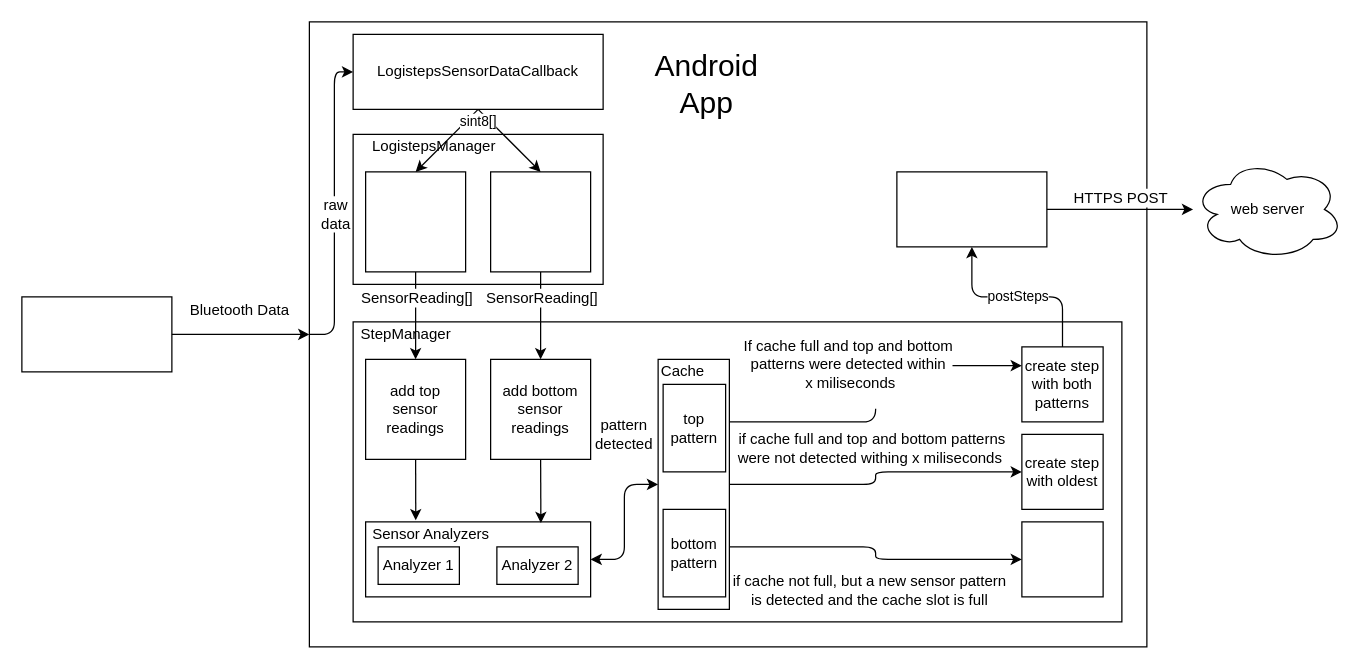
Some shapes in this 1365 by 669 pixel diagram are drawn without their labels. Here are the shapes that lost their labels. From the top down, the centre of each, then its label:
point 415,221: topSensor
point 540,221: bottomSensor
point 971,209: stepRepository
point 96,334: Microcontroller
point 1062,559: create step with cached pattern
